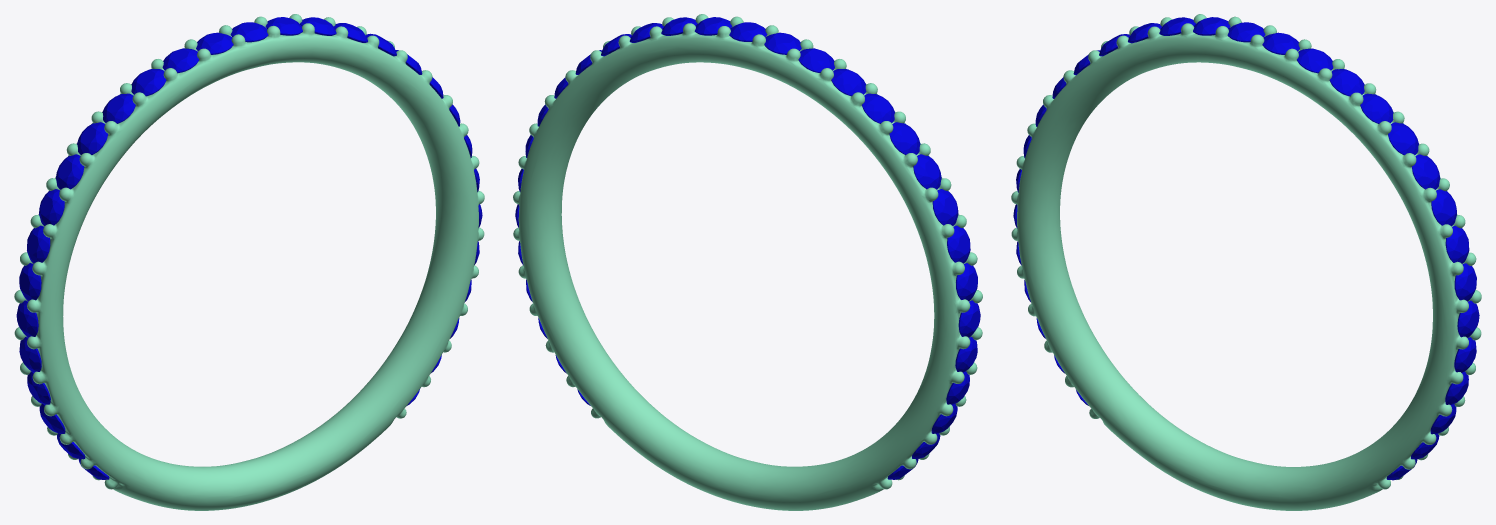
3 views of the same model, side by side, from view 1: azimuth 30°, elevation 25°; view 2: azimuth 150°, elevation 25°; view 3: azimuth 330°, elevation 25° (orthographic).
Parts seen in each view (by area): view 1: Metal03, Diamond_Band.016, Diamond_Band.017, Diamond_Band.015, Diamond_Band.018, Diamond_Band.014, Diamond_Band.019, Diamond_Band.013, Diamond_Band.020, Diamond_Band.012, Diamond_Band.021, Diamond_Band.028; view 2: Metal03, Diamond_Band.016, Diamond_Band.017, Diamond_Band.015, Diamond_Band.018, Diamond_Band.014, Diamond_Band.019, Diamond_Band.013, Diamond_Band.020, Diamond_Band.012, Diamond_Band.021, Diamond_Band.028; view 3: Metal03, Diamond_Band.008, Diamond_Band.007, Diamond_Band.009, Diamond_Band.006, Diamond_Band.010, Diamond_Band.005, Diamond_Band.027, Diamond_Band.004, Diamond_Band.011, Diamond_Band.003, Diamond_Band.028.
Boxes of the visible parts, x1,y1,x2,y2 form: Metal03: [14, 14, 484, 510]; Diamond_Band.016: [77, 122, 108, 154]; Diamond_Band.017: [56, 154, 84, 189]; Diamond_Band.015: [102, 93, 135, 123]; Diamond_Band.018: [39, 189, 64, 225]; Diamond_Band.014: [131, 69, 166, 96]; Diamond_Band.019: [27, 225, 50, 263]; Diamond_Band.013: [162, 48, 199, 73]; Diamond_Band.020: [19, 263, 41, 301]; Diamond_Band.012: [196, 32, 233, 54]; Diamond_Band.021: [16, 300, 38, 337]; Diamond_Band.028: [230, 22, 268, 42]; Metal03: [513, 14, 982, 510]; Diamond_Band.016: [889, 122, 920, 155]; Diamond_Band.017: [913, 154, 941, 189]; Diamond_Band.015: [862, 93, 894, 123]; Diamond_Band.018: [932, 189, 958, 225]; Diamond_Band.014: [831, 69, 866, 96]; Diamond_Band.019: [947, 225, 970, 263]; Diamond_Band.013: [798, 48, 834, 72]; Diamond_Band.020: [956, 263, 977, 301]; Diamond_Band.012: [764, 32, 801, 54]; Diamond_Band.021: [958, 300, 980, 337]; Diamond_Band.028: [729, 22, 767, 41]; Metal03: [1011, 14, 1481, 510]; Diamond_Band.008: [1388, 122, 1418, 155]; Diamond_Band.007: [1412, 154, 1440, 189]; Diamond_Band.009: [1360, 93, 1393, 123]; Diamond_Band.006: [1431, 189, 1456, 226]; Diamond_Band.010: [1329, 69, 1364, 96]; Diamond_Band.005: [1445, 225, 1469, 263]; Diamond_Band.027: [1297, 48, 1333, 73]; Diamond_Band.004: [1454, 263, 1476, 301]; Diamond_Band.011: [1262, 32, 1299, 54]; Diamond_Band.003: [1457, 300, 1479, 337]; Diamond_Band.028: [1227, 22, 1265, 42].
Size of the model in its own units: 20.82 by 20.81 by 1.91.
